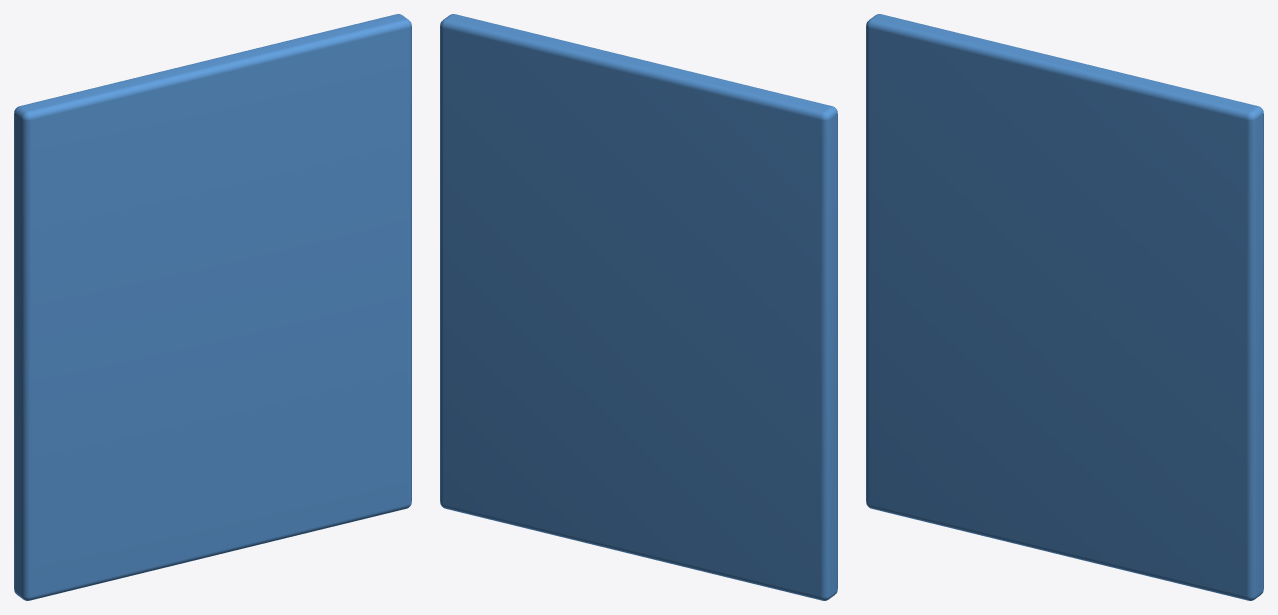
3 views of the same model, side by side, from view 1: azimuth 30°, elevation 25°; view 2: azimuth 150°, elevation 25°; view 3: azimuth 330°, elevation 25° (orthographic).
Visible parts, largest first — view 1: Rounded_Box__1; view 2: Rounded_Box__1; view 3: Rounded_Box__1.
Part boxes in pixels (x1=…): Rounded_Box__1: x1=14, y1=14, x2=411, y2=600; Rounded_Box__1: x1=440, y1=14, x2=837, y2=600; Rounded_Box__1: x1=866, y1=14, x2=1263, y2=600.
Size of the model in its own units: 250 by 300 by 15.
